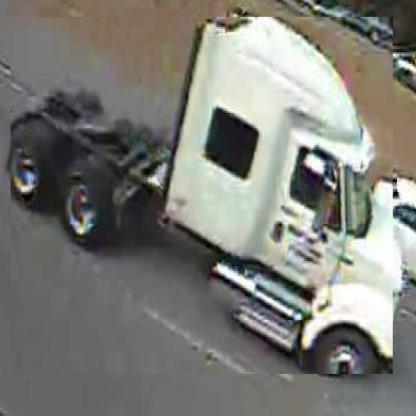container: (11, 18, 395, 376)
